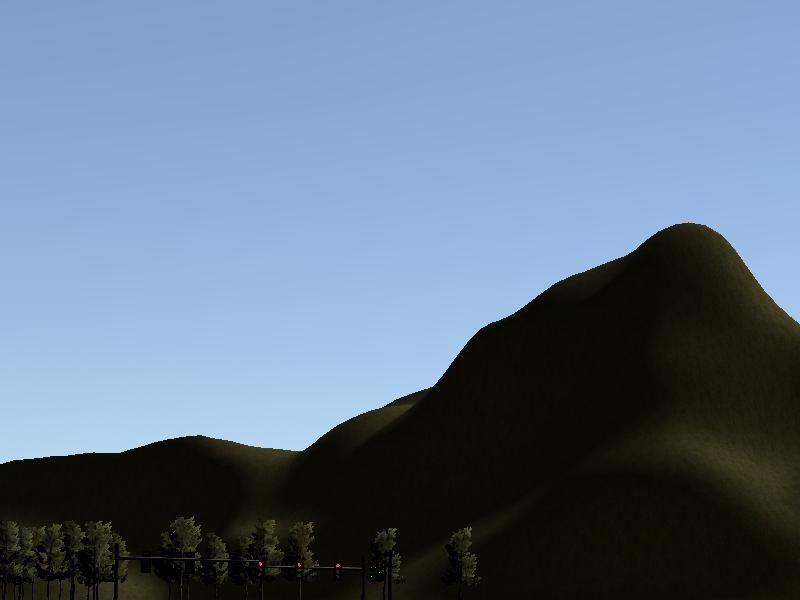RED: (331, 561, 342, 582), (294, 561, 304, 584), (255, 558, 265, 579)
